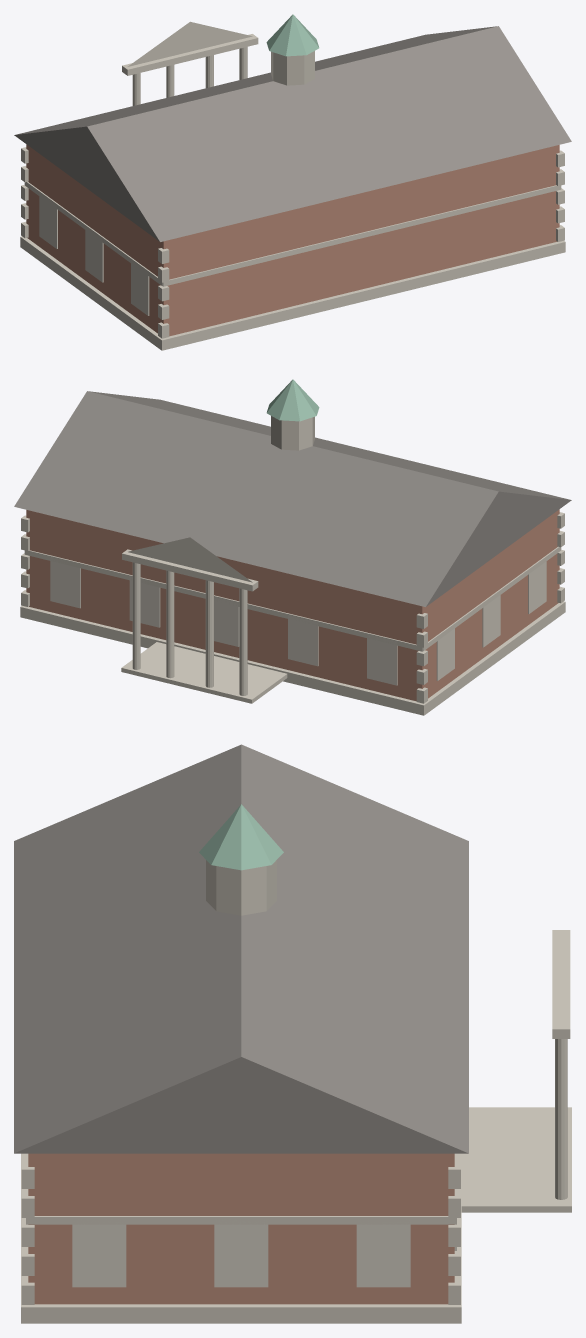
The model's file is cp_discovery_center.glb.
3 renders of one model, top to bottom at view 1: azimuth 30°, elevation 25°; view 2: azimuth 150°, elevation 25°; view 3: azimuth 270°, elevation 25°, orthographic. The views are drawn at different scales.
Visible parts, largest first — view 1: DanaDiscoveryCenter; view 2: DanaDiscoveryCenter; view 3: DanaDiscoveryCenter.
Boxes of the visible parts, x1,y1,x2,y2 form: DanaDiscoveryCenter: (14, 14, 571, 350); DanaDiscoveryCenter: (14, 379, 571, 715); DanaDiscoveryCenter: (14, 744, 571, 1323).
Size of the model in its own units: 20.8 by 11.37 by 15.7.
